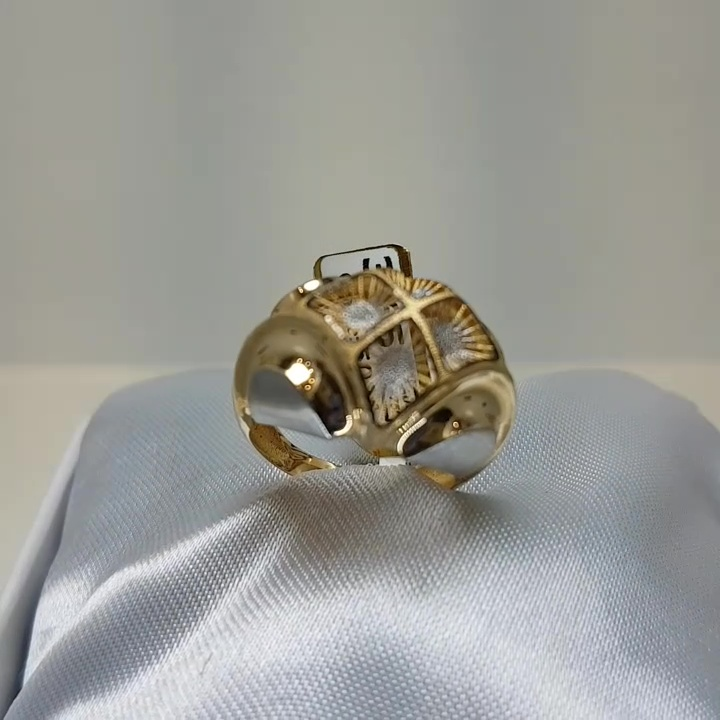Ring 2: (210, 237, 544, 493)
